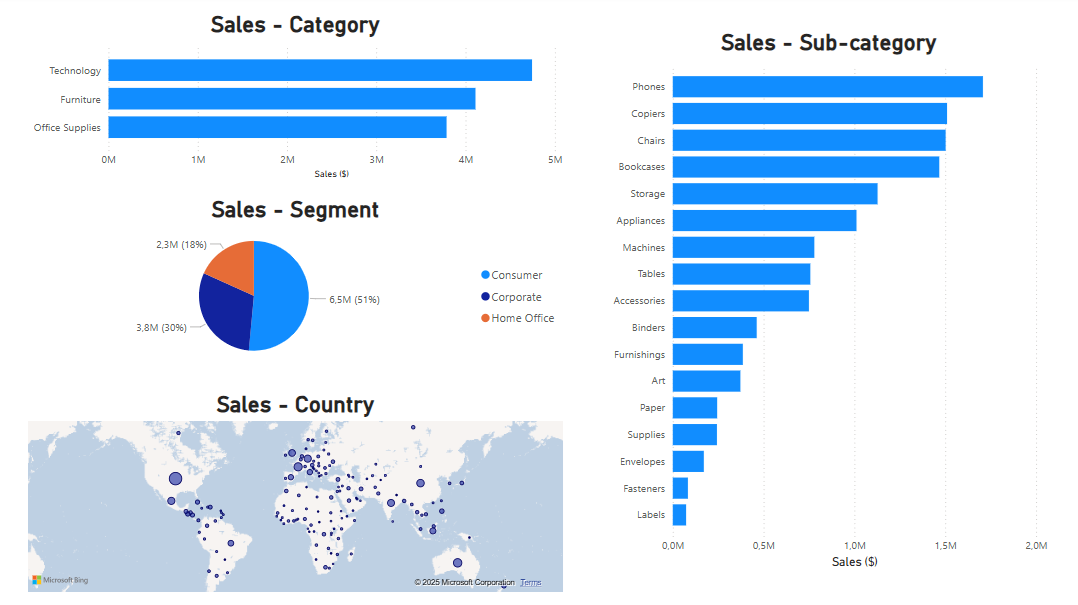

The page's visual inventory and layout, read from the dashboard file:
{"tool":"powerbi","page":{"name":"Sales Analysis","canvas":[1280,720],"ordinal":2},"visuals":[{"type":"clusteredBarChart","title":"Sales - Category ","fields":{"Category":["Global_Superstore2.Category"],"Y":["Sum(Global_Superstore2.Sales)"]},"box":[34.3,19.2,639.5,203.1],"z":0},{"type":"clusteredBarChart","title":"Sales - Sub-category ","fields":{"Category":["Global_Superstore2.Sub-Category"],"Y":["Sum(Global_Superstore2.Sales)"]},"box":[717.7,39.8,526.9,640.8],"z":1000},{"type":"map","title":"Sales - Country","fields":{"Size":["Sum(Global_Superstore2.Sales)"],"Category":["Global_Superstore2.Country"]},"box":[34.3,466.6,639.5,241.5],"z":2000},{"type":"pieChart","title":"Sales - Segment ","fields":{"Y":["Sum(Global_Superstore2.Sales)"],"Category":["Global_Superstore2.Segment"]},"box":[34.3,237.4,639.5,204.5],"z":3000}]}

Visuals, with their boxes in screenshot pixels (x1, y1, x2, y2), scaled from the page's 1280x720 canvas onto the 1078x605 screenshot:
"Sales - Category " clusteredBarChart: BBox(29, 16, 567, 187)
"Sales - Sub-category " clusteredBarChart: BBox(604, 33, 1048, 572)
"Sales - Country" map: BBox(29, 392, 567, 595)
"Sales - Segment " pieChart: BBox(29, 199, 567, 371)
